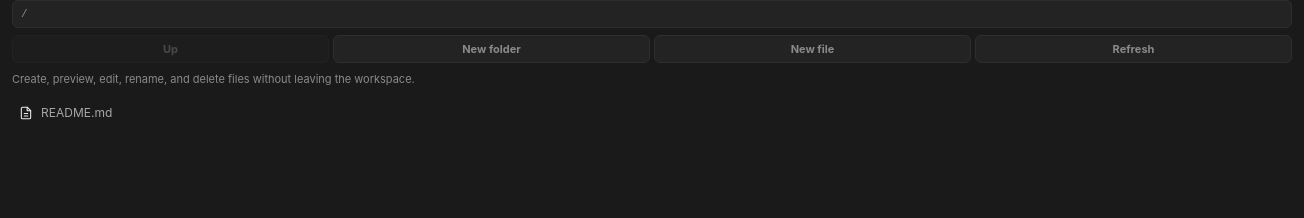
WorkspaceFilePanel file lifecycle › refuses binary previews with an actionable, focused error
The image size is (1304, 218).
Click the button "README.md" at (77, 112), box [12, 96, 1292, 130]
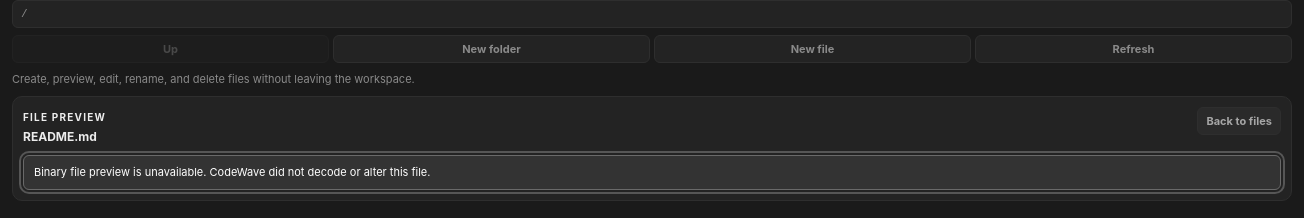
Result: the message shows "Binary file preview is unavailable" at [34, 165, 430, 179]
